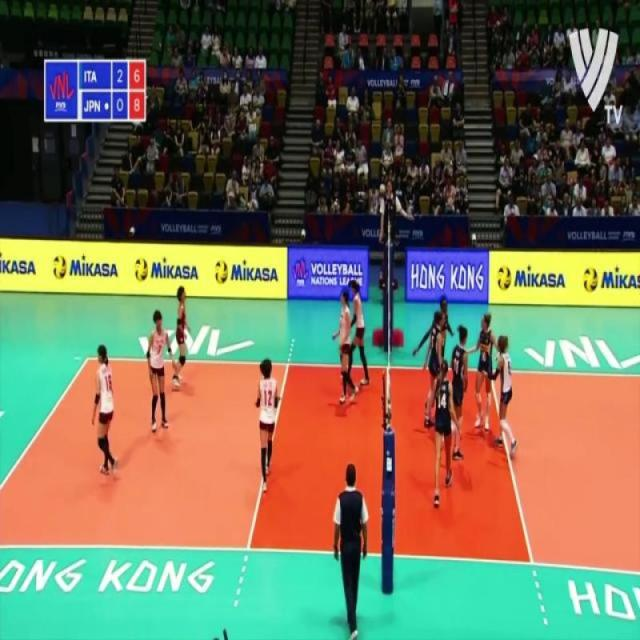volleyball: (582, 266, 599, 293), (134, 255, 148, 283), (497, 264, 512, 290), (215, 258, 228, 285), (54, 252, 66, 281)
